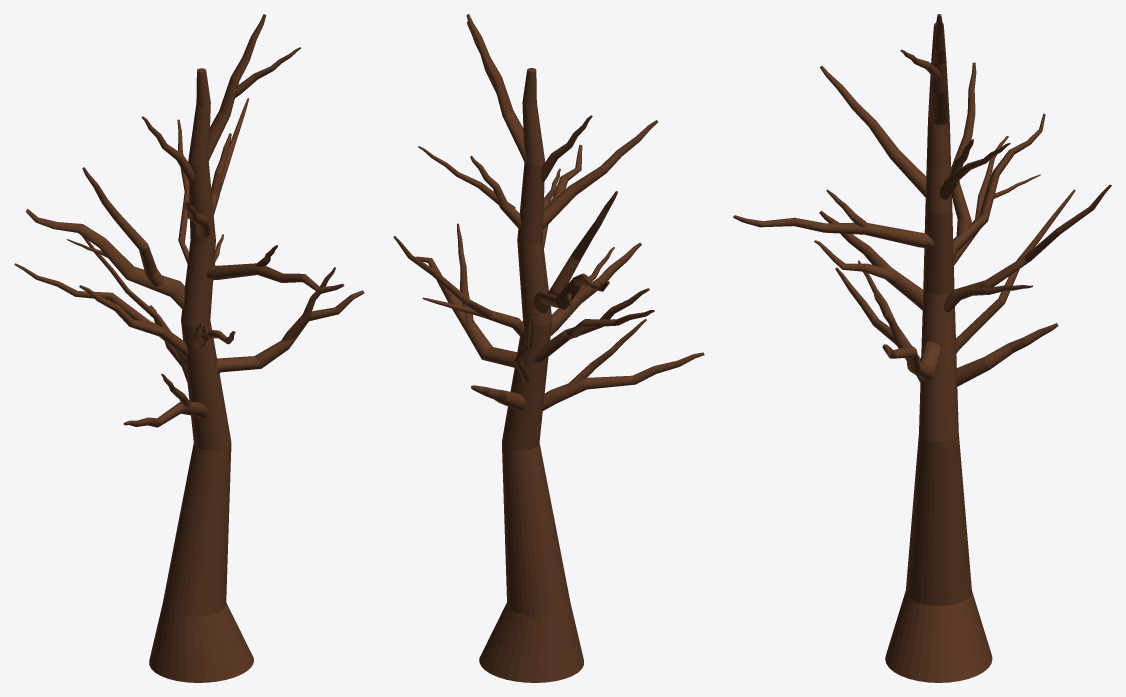
The model's file is dead_tree2.glb.
3 renders of one model, left to right at view 1: azimuth 30°, elevation 25°; view 2: azimuth 150°, elevation 25°; view 3: azimuth 270°, elevation 25°, orthographic. The views are drawn at different scales.
Parts seen in each view (by area): view 1: Cylinder.001_2, Cylinder.002_3, Cylinder.003_4, Cylinder.022_23, Cylinder.006_7, Cylinder.020_21, Cylinder.016_17, Cylinder.021_22, Cylinder.004_5, Cylinder.019_20, Cylinder.005_6, Cylinder.008_9 (+1 smaller); view 2: Cylinder.001_2, Cylinder.004_5, Cylinder.009_10, Cylinder.022_23, Cylinder.003_4, Cylinder.005_6, Cylinder.020_21, Cylinder.012_13, Cylinder.002_3, Cylinder.016_17, Cylinder.021_22, Cylinder.014_15 (+6 smaller); view 3: Cylinder.001_2, Cylinder.006_7, Cylinder.009_10, Cylinder.005_6, Cylinder.022_23, Cylinder.002_3, Cylinder.014_15, Cylinder.020_21, Cylinder.019_20, Cylinder.012_13, Cylinder.003_4, Cylinder.004_5 (+2 smaller).
Boxes of the visible parts, bbox=[...] form: Cylinder.001_2: bbox=[149, 68, 253, 682]; Cylinder.002_3: bbox=[26, 209, 184, 309]; Cylinder.003_4: bbox=[216, 290, 364, 373]; Cylinder.022_23: bbox=[207, 14, 266, 161]; Cylinder.006_7: bbox=[206, 263, 344, 293]; Cylinder.020_21: bbox=[82, 167, 163, 286]; Cylinder.016_17: bbox=[79, 285, 188, 357]; Cylinder.021_22: bbox=[14, 263, 161, 326]; Cylinder.004_5: bbox=[123, 402, 207, 427]; Cylinder.019_20: bbox=[82, 236, 185, 364]; Cylinder.005_6: bbox=[177, 119, 189, 263]; Cylinder.008_9: bbox=[141, 116, 194, 183]; Cylinder.001_2: bbox=[479, 68, 583, 682]; Cylinder.004_5: bbox=[543, 352, 704, 410]; Cylinder.009_10: bbox=[543, 120, 657, 229]; Cylinder.022_23: bbox=[466, 14, 527, 164]; Cylinder.003_4: bbox=[415, 256, 517, 367]; Cylinder.005_6: bbox=[393, 236, 524, 337]; Cylinder.020_21: bbox=[547, 191, 617, 295]; Cylinder.012_13: bbox=[550, 242, 641, 335]; Cylinder.002_3: bbox=[534, 273, 609, 313]; Cylinder.016_17: bbox=[534, 288, 649, 362]; Cylinder.021_22: bbox=[566, 309, 654, 338]; Cylinder.014_15: bbox=[471, 385, 525, 410]; Cylinder.001_2: bbox=[885, 23, 992, 682]; Cylinder.006_7: bbox=[733, 215, 934, 248]; Cylinder.009_10: bbox=[820, 66, 926, 197]; Cylinder.005_6: bbox=[943, 184, 1111, 312]; Cylinder.022_23: bbox=[929, 14, 949, 124]; Cylinder.002_3: bbox=[953, 113, 1045, 261]; Cylinder.014_15: bbox=[955, 323, 1058, 386]; Cylinder.020_21: bbox=[951, 62, 976, 235]; Cylinder.019_20: bbox=[956, 189, 1075, 353]; Cylinder.012_13: bbox=[819, 210, 923, 310]; Cylinder.003_4: bbox=[882, 341, 941, 380]; Cylinder.004_5: bbox=[835, 267, 920, 381].
Size of the model in its own units: 12.44 by 25.47 by 12.9.
